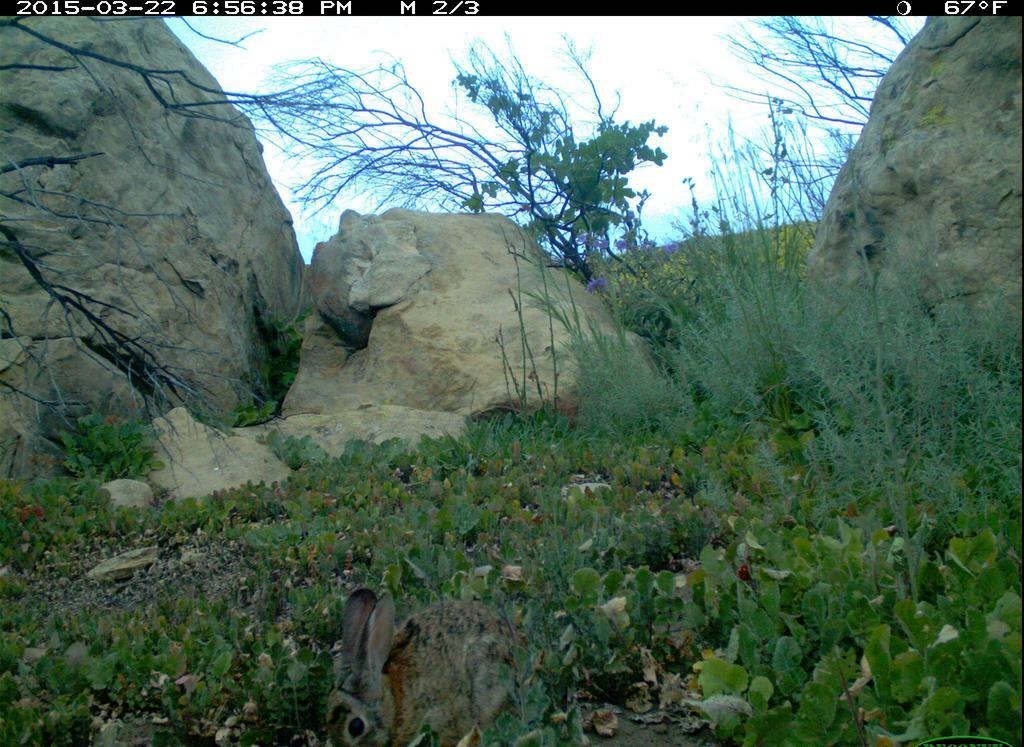rabbit: (310, 583, 536, 742)
